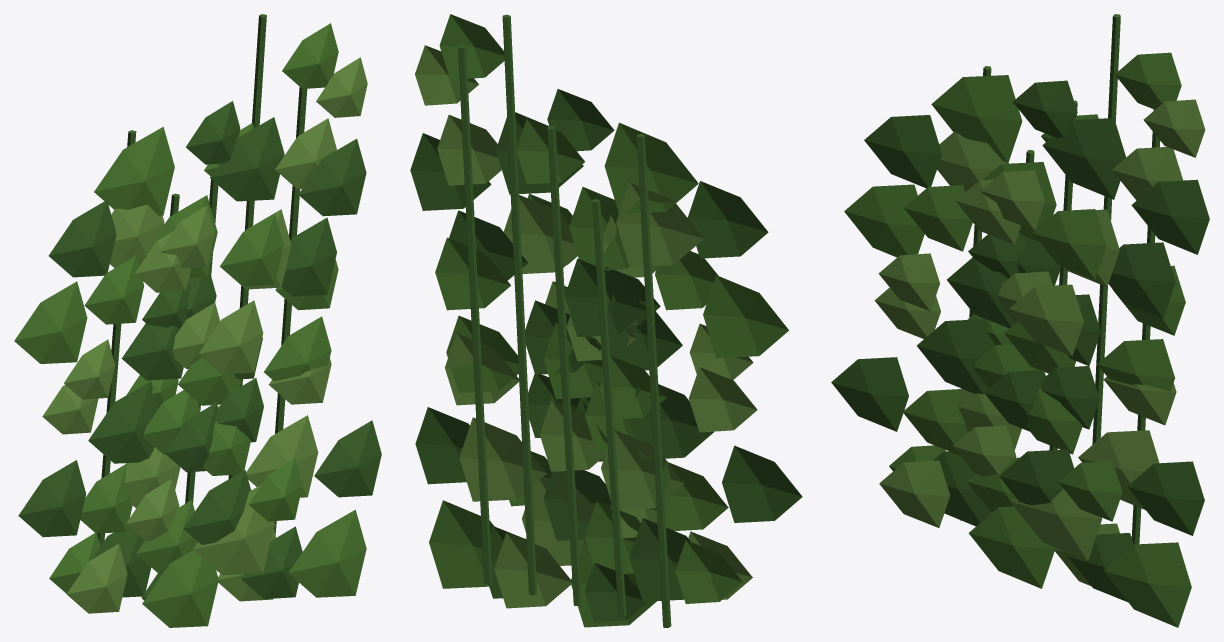
The model's file is wall_ivy_patch.glb.
3 views of the same model, side by side, from view 1: azimuth 30°, elevation 25°; view 2: azimuth 150°, elevation 25°; view 3: azimuth 330°, elevation 25° (orthographic). The views are drawn at different scales.
Visible parts, largest first — view 1: wall_ivy_patch; view 2: wall_ivy_patch; view 3: wall_ivy_patch.
Part boxes in pixels (left/top/right/bottom): wall_ivy_patch: left=14, top=14, right=381, bottom=627; wall_ivy_patch: left=410, top=14, right=802, bottom=627; wall_ivy_patch: left=831, top=14, right=1209, bottom=627.
Size of the model in its own units: 1.19 by 1.81 by 0.1753.
